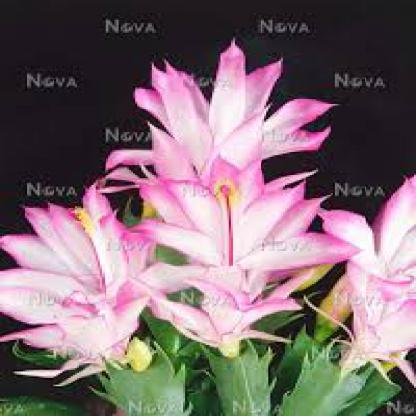Aglonema: (39, 17, 416, 277)
